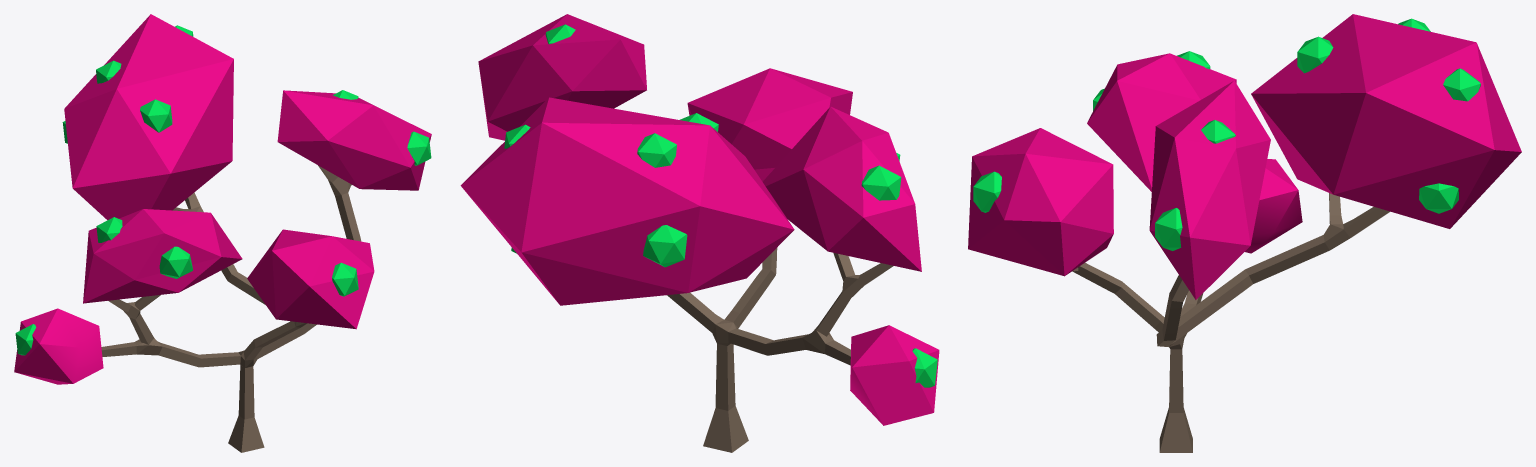
The model's file is Tree1.fbx.
3 views of the same model, side by side, from view 1: azimuth 30°, elevation 25°; view 2: azimuth 150°, elevation 25°; view 3: azimuth 270°, elevation 25° (orthographic). The views are drawn at different scales.
Parts seen in each view (by area): view 1: Cube; view 2: Cube; view 3: Cube.
Part boxes in pixels (box(x1,y1,x2,y2)): Cube: box(14, 14, 431, 452); Cube: box(460, 14, 939, 452); Cube: box(968, 14, 1521, 452).
Bounding box in the file's own units: 1029 × 850 × 1019.
